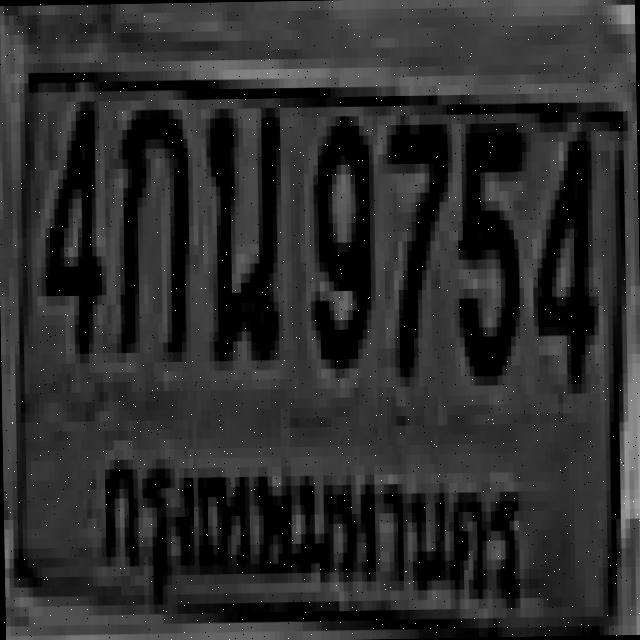10GorGai: (112, 100, 186, 352)
34NorNu: (203, 98, 281, 351)
4: (38, 91, 98, 354), (530, 122, 590, 384)
5: (451, 113, 525, 376)
7: (386, 115, 450, 368)
9: (307, 105, 372, 358)
Bangkok: (86, 414, 529, 640)
